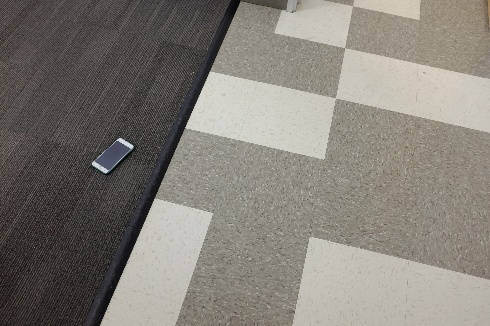phone: (90, 138, 139, 170)
